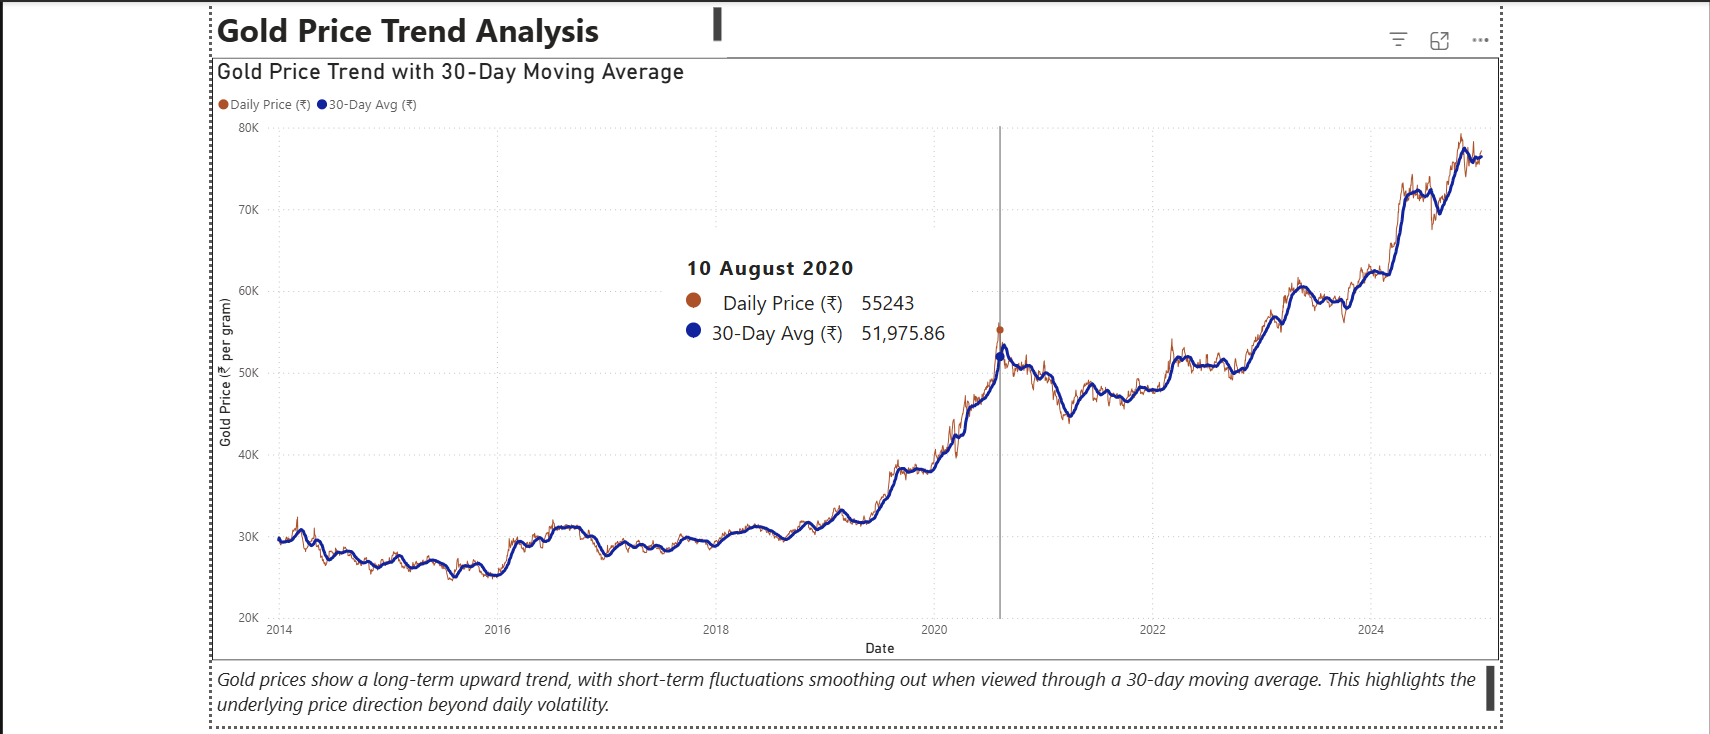

The page's visual inventory and layout, read from the dashboard file:
{"tool":"powerbi","page":{"name":"Gold Price Trend Analysis","canvas":[1280,720],"ordinal":0},"visuals":[{"type":"lineChart","fields":{"Category":["gold_price_india.Date.Variation.Date Hierarchy.Year","gold_price_india.Date.Variation.Date Hierarchy.Quarter","gold_price_india.Date.Variation.Date Hierarchy.Month","gold_price_india.Date.Variation.Date Hierarchy.Day"]},"box":[266.5,92.6,279.7,279.7],"z":0},{"type":"lineChart","title":"Gold Price Trend with 30-Day Moving Average","fields":{"Y":["Max(gold_price_india.Price)","gold_price_india.MA_30"],"Category":["gold_price_india.Date"]},"box":[0,55,1280,600],"z":1000},{"type":"textbox","box":[0,0,511.7,55],"z":1001},{"type":"textbox","box":[0,655,1280,65],"z":1002}]}

Visuals, with their boxes on the page's 1280x720 design canvas (x1, y1, x2, y2). These are canvas units, not pixel positions in the 1710x734 screenshot, which may show the page scaled, cropped or inside an application window:
lineChart - gold_price_india.Date.Variation.Date Hierarchy.Year x gold_price_india.Date.Variation.Date Hierarchy.Quarter: <box>266,93,546,372</box>
"Gold Price Trend with 30-Day Moving Average" lineChart: <box>0,55,1280,655</box>
textbox: <box>0,0,512,55</box>
textbox: <box>0,655,1280,720</box>
